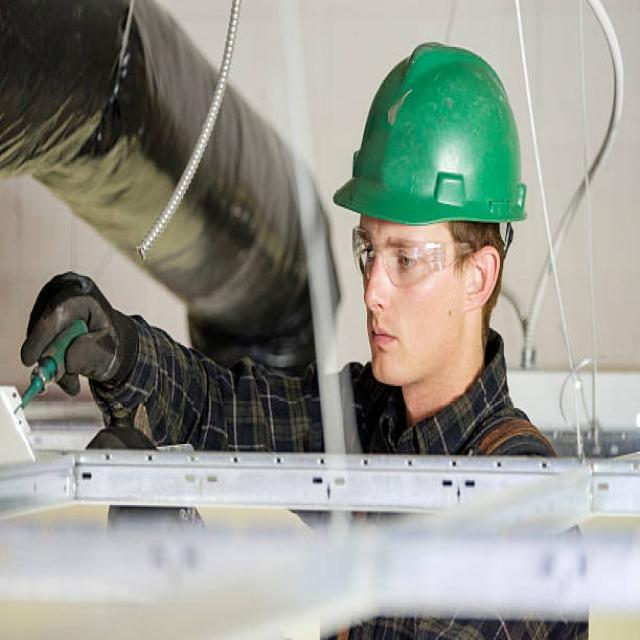gloves: (19, 270, 139, 395)
